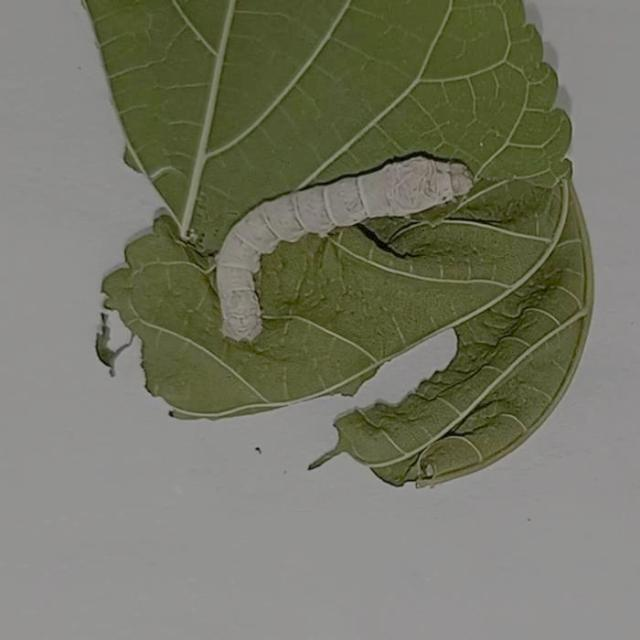Healthy: (210, 138, 481, 352)
